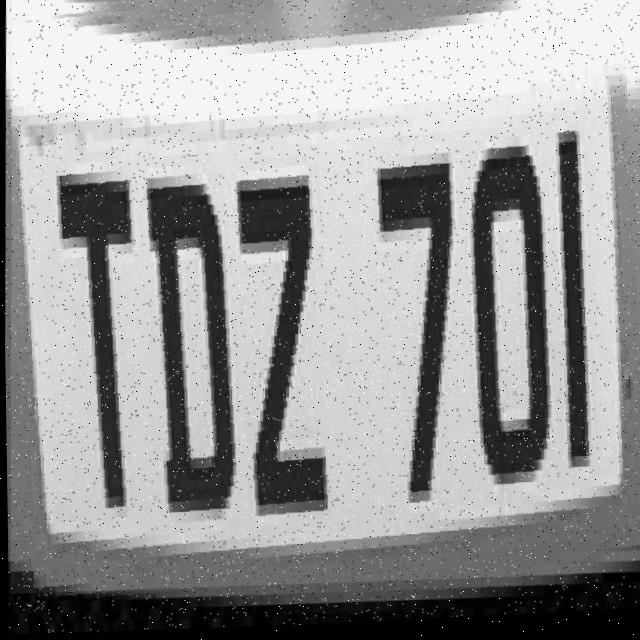LicensePlate: (1, 0, 640, 604)
